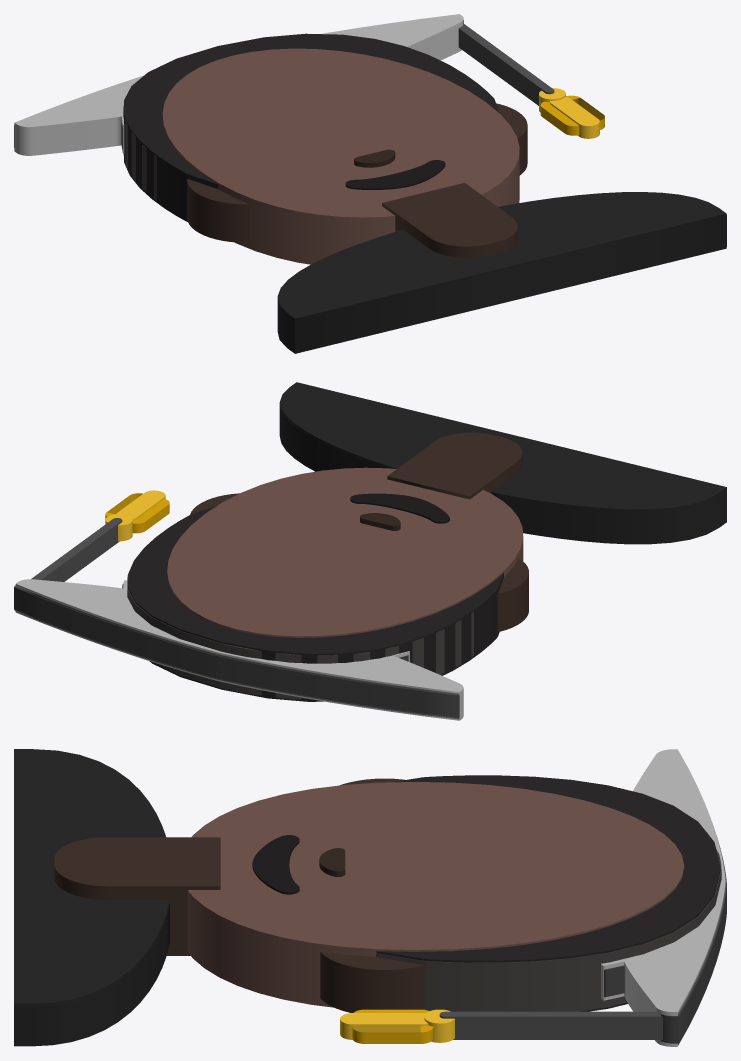
File: emoji_u1f468_1f3ff_200d_1f393.glb
3 renders of one model, top to bottom at view 1: azimuth 30°, elevation 25°; view 2: azimuth 150°, elevation 25°; view 3: azimuth 270°, elevation 25°, orthographic. The views are drawn at different scales.
Parts seen in each view (by area): view 1: emoji_u1f468_1f3ff_200d_1f393; view 2: emoji_u1f468_1f3ff_200d_1f393; view 3: emoji_u1f468_1f3ff_200d_1f393.
Part boxes in pixels (x1,y1,x2,y2): emoji_u1f468_1f3ff_200d_1f393: (14, 14, 726, 353); emoji_u1f468_1f3ff_200d_1f393: (14, 382, 726, 720); emoji_u1f468_1f3ff_200d_1f393: (14, 749, 726, 1046).
Bounding box in the file's own units: 0.0301 × 0.0038 × 0.0334.
